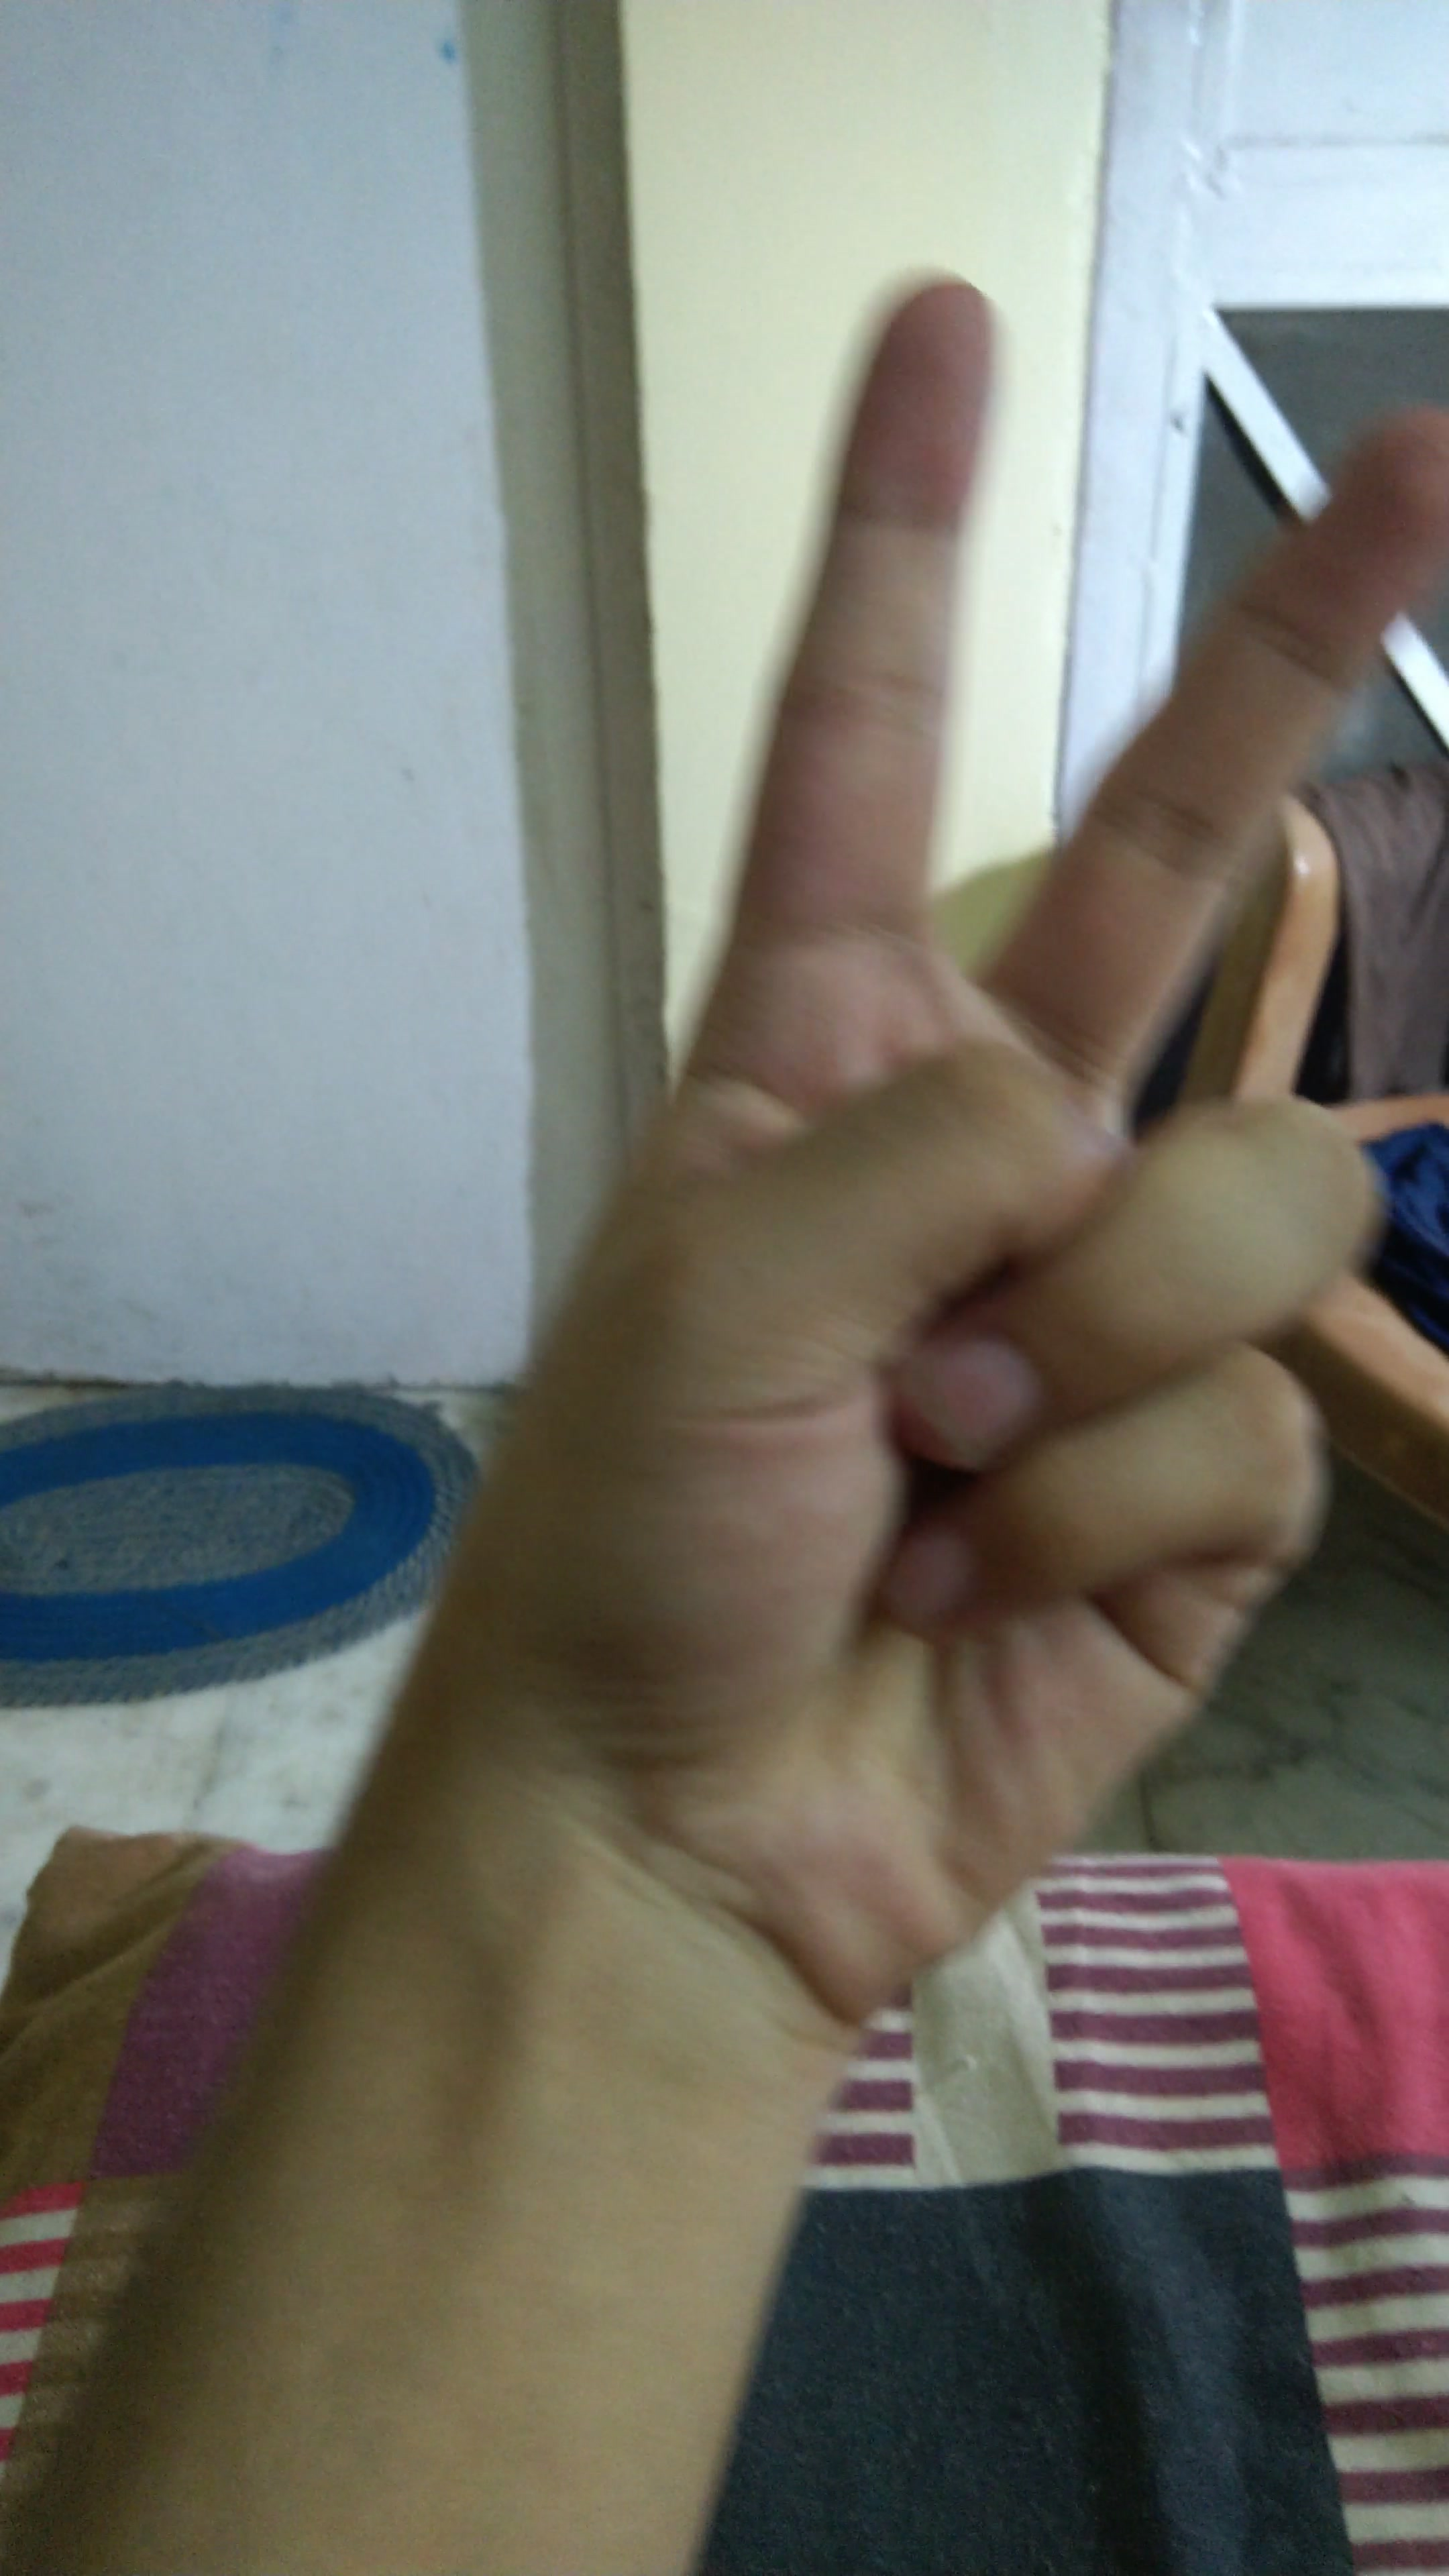hand: (320, 211, 1449, 2035)
